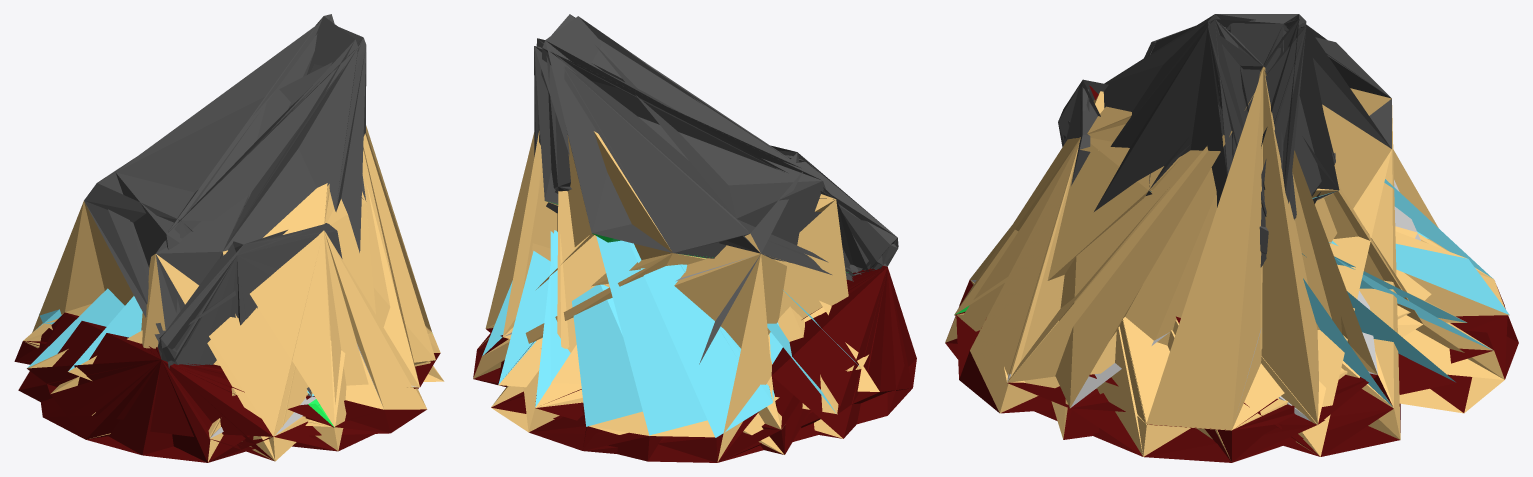
The model's file is S.S._Dolphin_Interstellar_Radio.obj.
3 views of the same model, side by side, from view 1: azimuth 30°, elevation 25°; view 2: azimuth 150°, elevation 25°; view 3: azimuth 270°, elevation 25° (orthographic). The views are drawn at different scales.
Parts seen in each view (by area): view 1: S.S._Dolphin_Interstellar_Radio; view 2: S.S._Dolphin_Interstellar_Radio; view 3: S.S._Dolphin_Interstellar_Radio.
Part boxes in pixels (left/top/right/bottom): S.S._Dolphin_Interstellar_Radio: left=14, top=14, right=444, bottom=462; S.S._Dolphin_Interstellar_Radio: left=473, top=14, right=916, bottom=462; S.S._Dolphin_Interstellar_Radio: left=945, top=14, right=1518, bottom=462.
Bounding box in the file's own units: 2.25 × 1.77 × 2.27.
